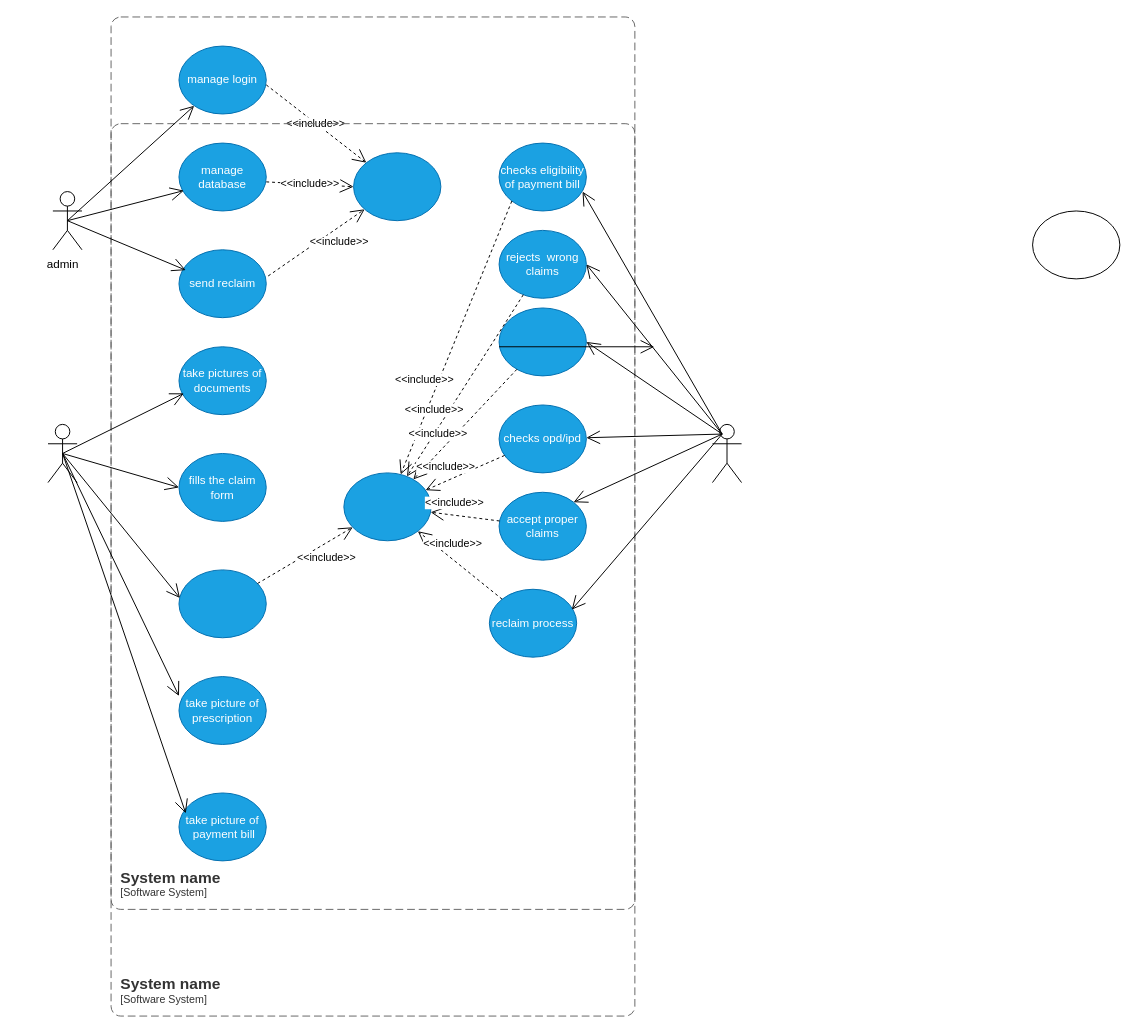
Image size: 1137x1033. Some labels were removed from this diagram. The shapes that lost their labels are listed below. From the top down, each one's centre as x and y in pixels, then its label:
At [397,186]: "administrative access".
At [1076,244]: "Use Case".
At [542,341]: "checks for special cases".
At [62,453]: "hospital reception".
At [726,453]: "claim reviewer".
At [387,506]: "login to the system".
At [222,603]: "operate reclaim process".
